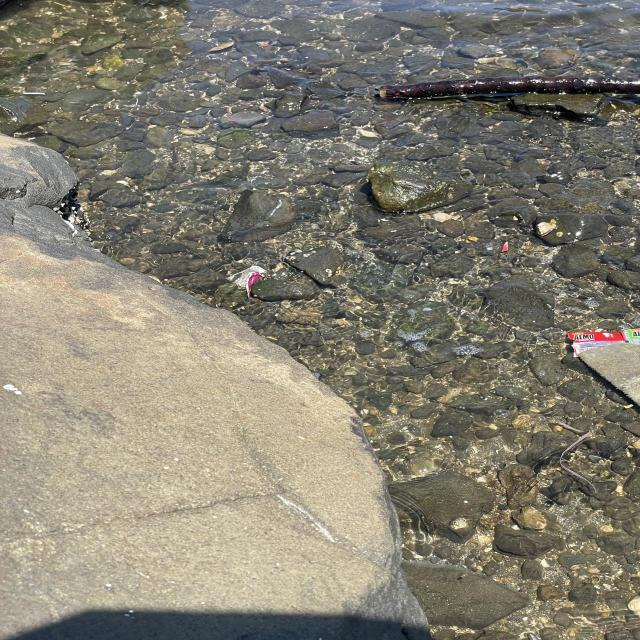plastic_waste: (566, 328, 640, 358), (226, 266, 269, 300)
